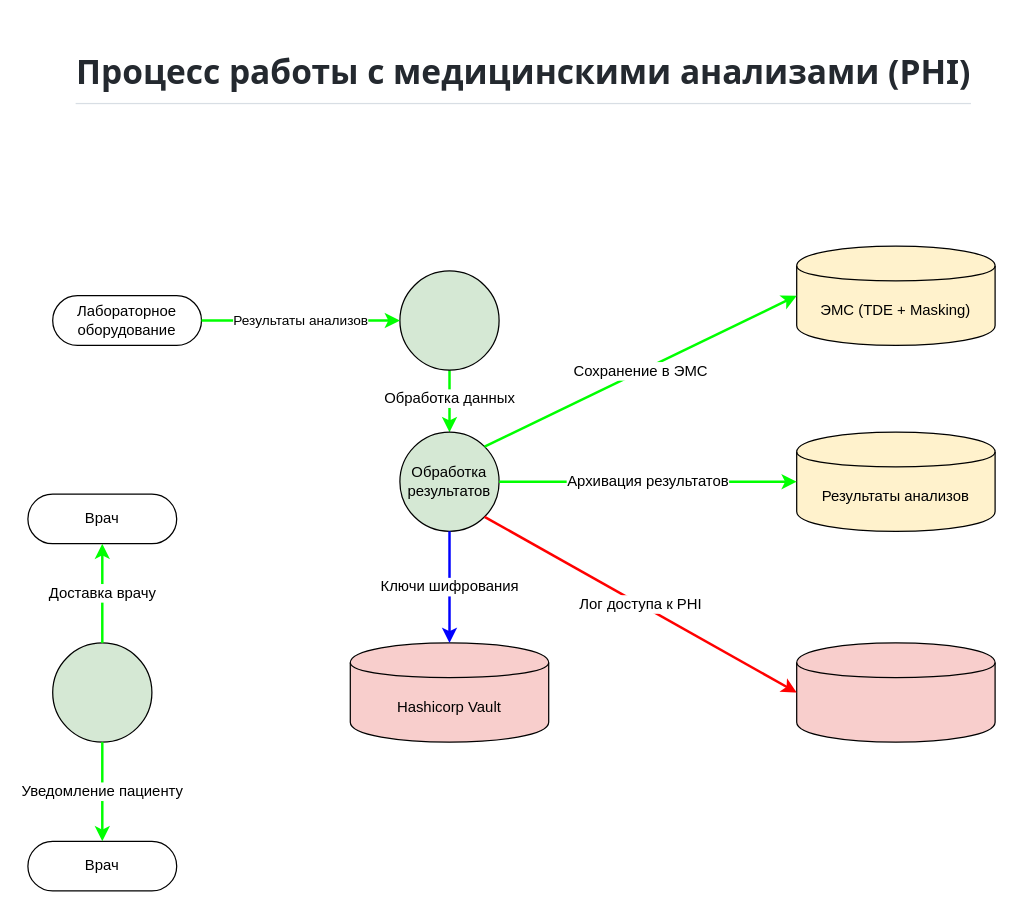
Some shapes in this 1017 by 913 pixel diagram are drawn without their labels. Here are the shapes that lost their labels. From the top down, the centre of each, then its label:
At point 449,320: "Сбор данных анализов".
At point 101,692: "Защищенная доставка".
At point 895,692: "Аудит PHI".
